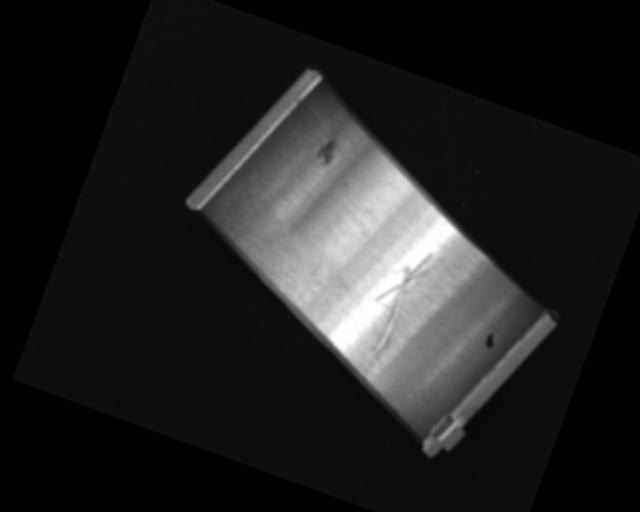blot: (481, 329, 499, 351)
bruise: (312, 134, 341, 168)
nick: (345, 239, 443, 390)
scratch: (213, 206, 345, 315)
